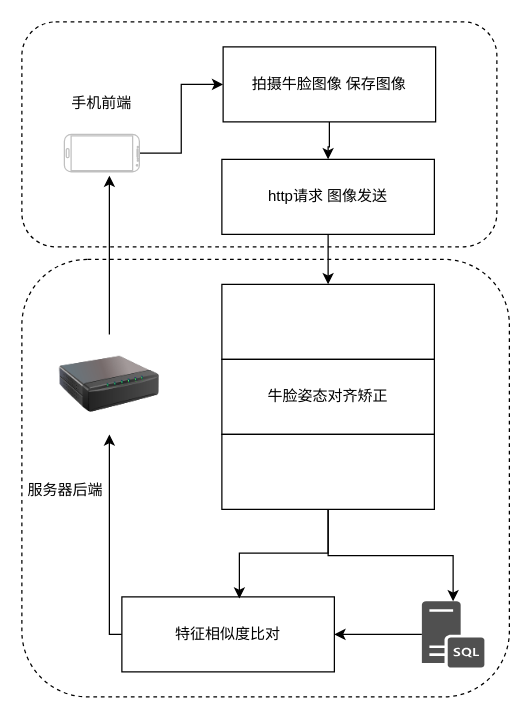
Some shapes in this 531 by 719 pixel diagram are drawn without their labels. The shapes that lost their labels are listed below. From the top down, each one's box as (x1, y1, x2, y2) in pixels, then its label:
(221, 283, 434, 359): 牛脸检测+牛脸关键点检测
(221, 433, 434, 509): 牛脸识别提取512维特征
